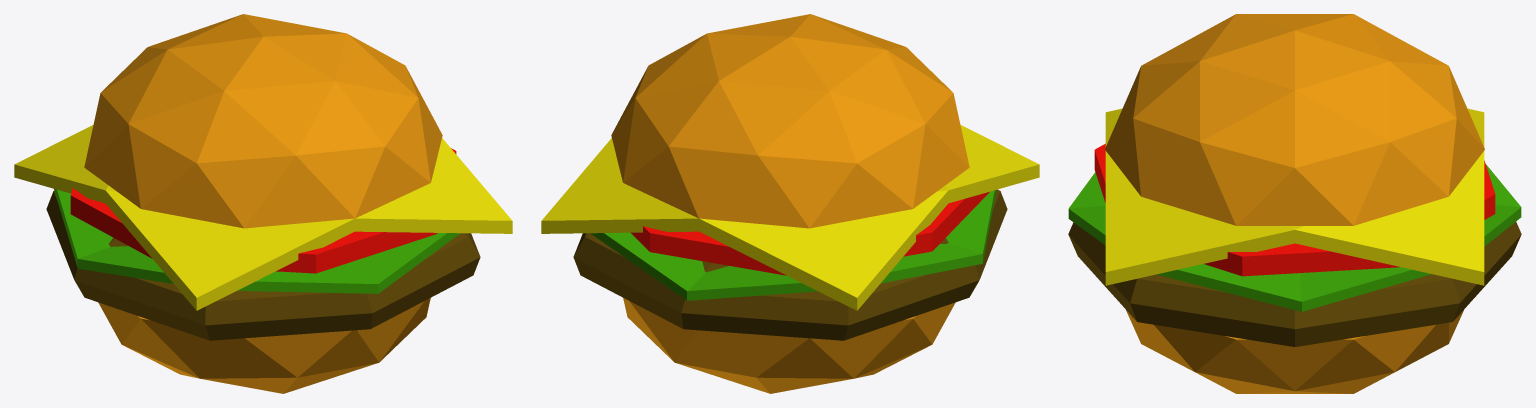
File: Hamburger.fbx
3 views of the same model, side by side, from view 1: azimuth 30°, elevation 25°; view 2: azimuth 150°, elevation 25°; view 3: azimuth 270°, elevation 25° (orthographic). The views are drawn at different scales.
Visible parts, largest first — view 1: Plane.001; view 2: Plane.001; view 3: Plane.001.
Boxes of the visible parts, <box> form: Plane.001: <box>14,14,512,393</box>; Plane.001: <box>541,14,1039,393</box>; Plane.001: <box>1068,14,1521,393</box>.
Size of the model in its own units: 273 by 230 by 273.
